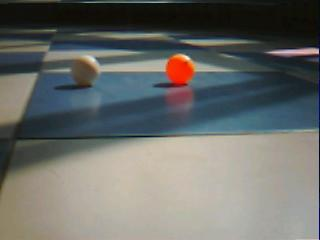oball: (167, 54, 193, 86)
